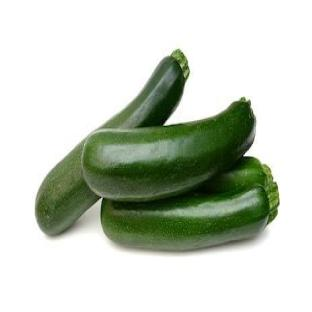Zucchini: (83, 99, 255, 201), (101, 186, 278, 250), (101, 51, 188, 128), (199, 158, 279, 221)
